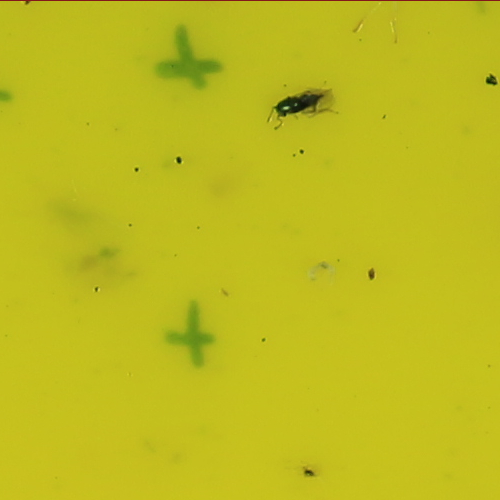wasp: (272, 87, 328, 121)
